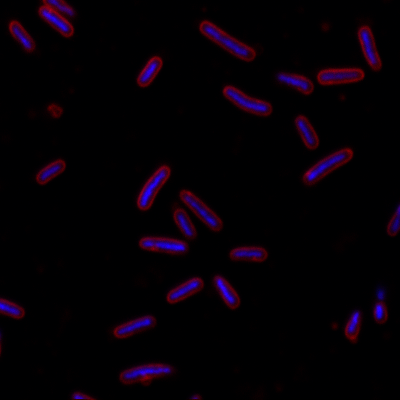Oblique: (115, 362, 177, 384), (272, 67, 317, 96), (342, 306, 367, 343), (172, 206, 196, 239), (371, 284, 388, 323)
Rifampicin: (196, 19, 257, 63), (178, 188, 224, 233), (302, 149, 356, 187), (134, 164, 172, 211), (221, 83, 270, 116), (37, 3, 76, 38), (164, 276, 205, 306), (112, 312, 158, 338), (357, 24, 382, 71), (137, 234, 188, 256), (7, 20, 39, 55), (292, 113, 321, 151), (213, 274, 241, 312), (316, 66, 367, 86), (135, 55, 163, 88), (34, 157, 68, 184), (228, 245, 269, 264)
